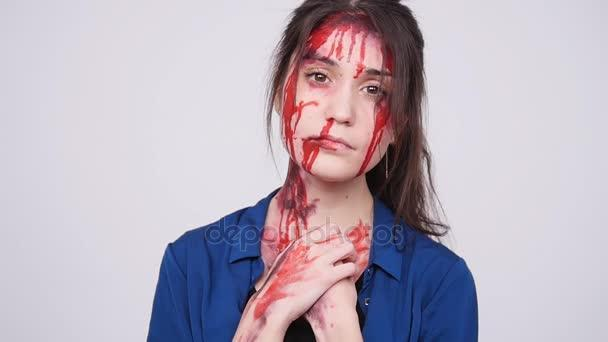Fire: (234, 22, 395, 340)
